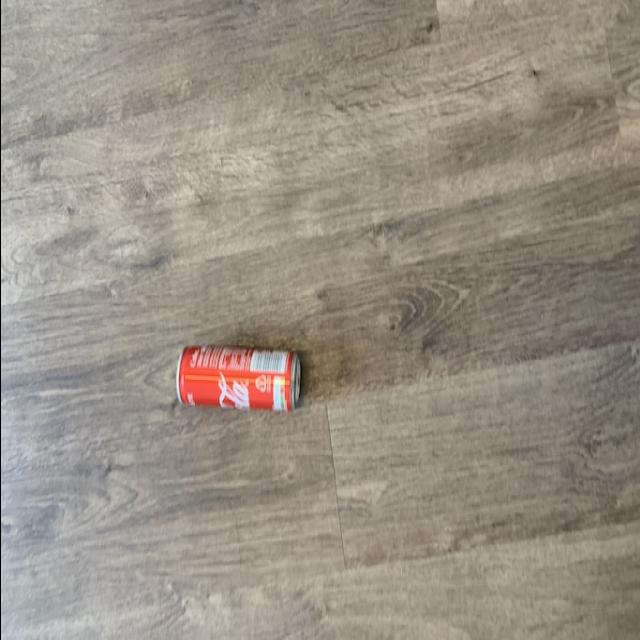Aluminum Can: (158, 320, 316, 436)
